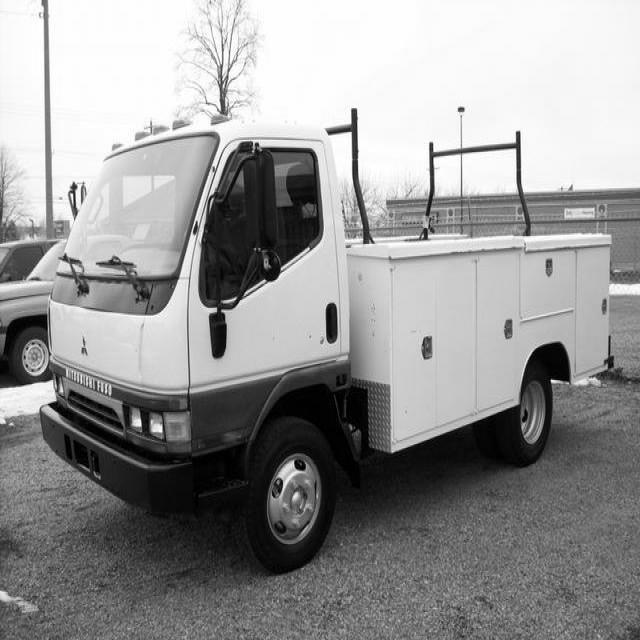truck: (24, 101, 379, 536)
